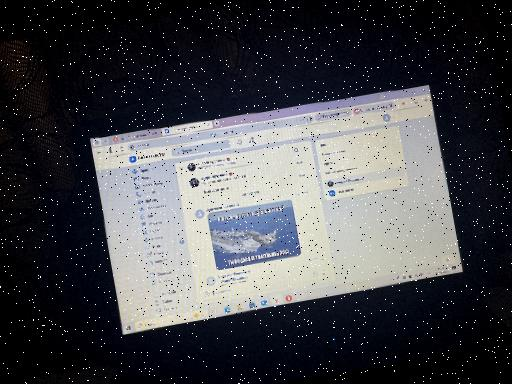vk: (94, 100, 462, 321)
